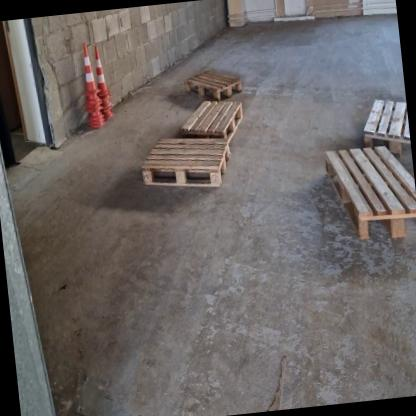BoxFace: (324, 143, 416, 237), (139, 137, 230, 187), (363, 97, 412, 161), (181, 98, 244, 144), (183, 67, 244, 101)
